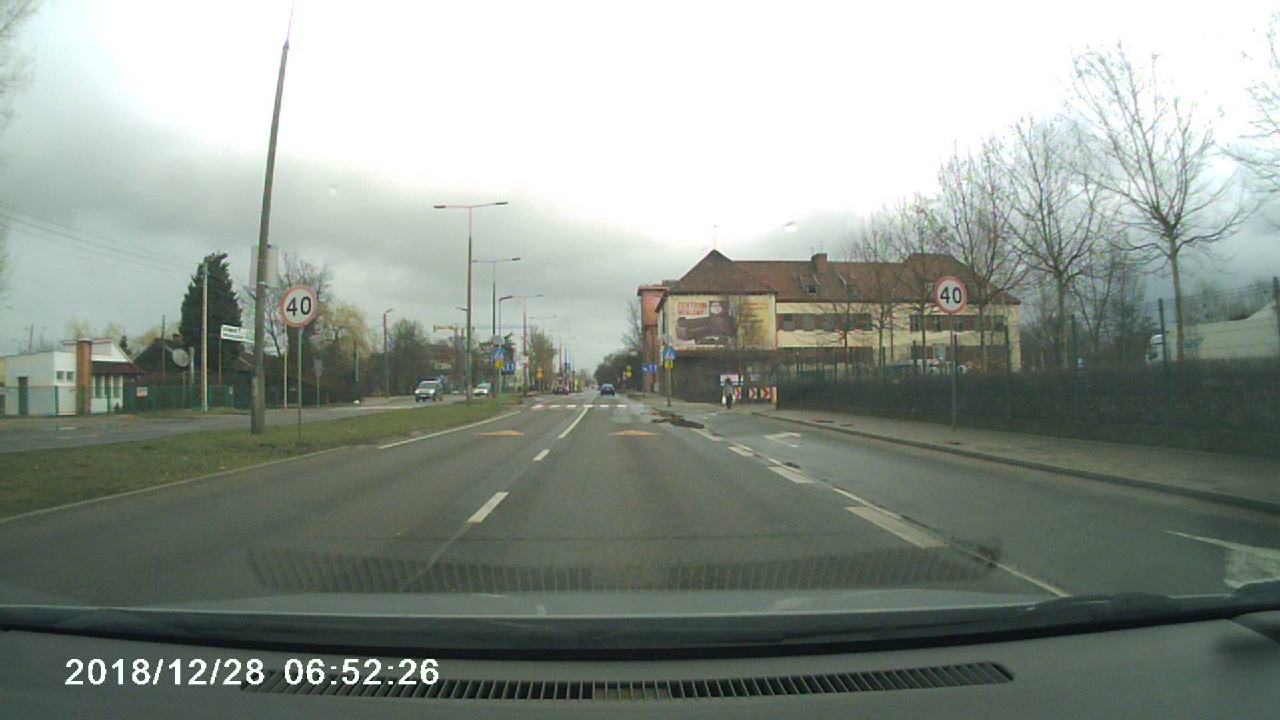B33_40: (275, 283, 326, 327), (932, 276, 968, 314)
